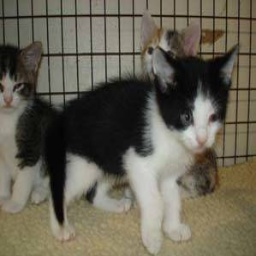cat: (1, 10, 241, 254)
